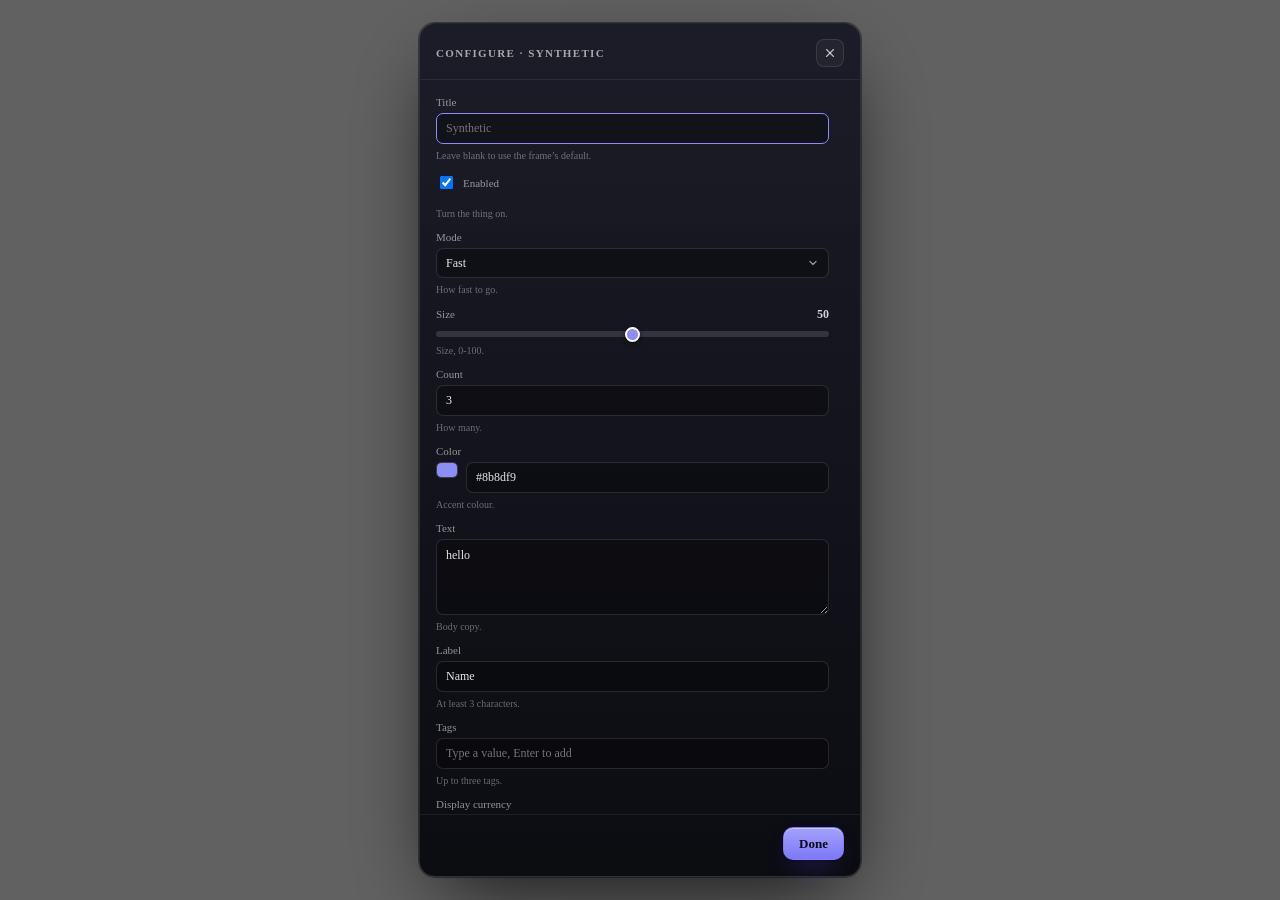
Test: FrameConfigDialog control dispatch › bounded number → a range slider that commits + shows the live value
The width and height of the screenshot is (1280, 900).
Set the slider with id "zf-cfg-size" to "75". click: x=727, y=334
box: [436,331,829,337]
Wait 200 ms
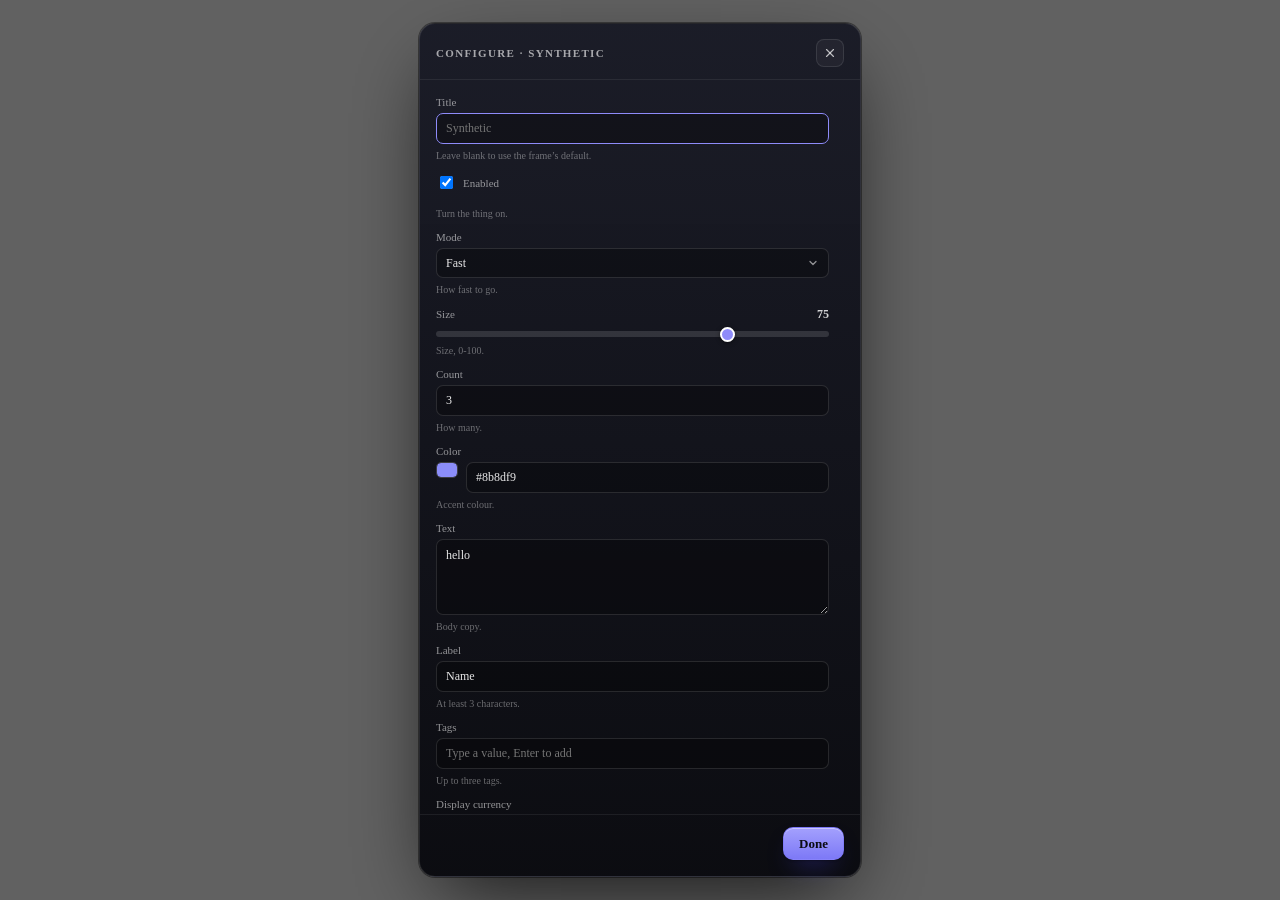
Expected: the text with class "zf-field-num" reads "75", [817,307,829,321]
